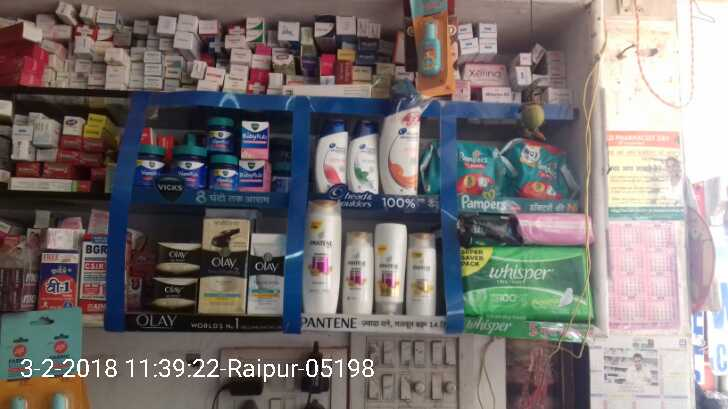beauty: (195, 215, 250, 315), (300, 199, 344, 312), (378, 91, 424, 199), (342, 222, 379, 317), (248, 228, 287, 318), (374, 218, 407, 320), (406, 231, 437, 317), (312, 126, 348, 196), (348, 120, 379, 198), (146, 271, 200, 313), (149, 239, 201, 276)
pharmacy: (456, 245, 593, 328), (422, 138, 503, 206), (128, 138, 168, 190), (169, 143, 208, 189), (237, 116, 272, 163), (206, 117, 239, 158), (235, 160, 270, 196), (208, 158, 240, 190)
